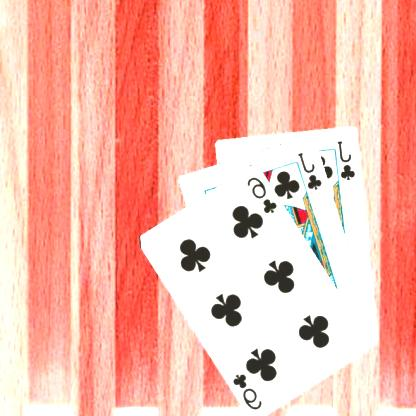6C: (246, 174, 281, 214), (232, 370, 266, 411)
JC: (297, 149, 326, 191), (336, 137, 359, 182)
